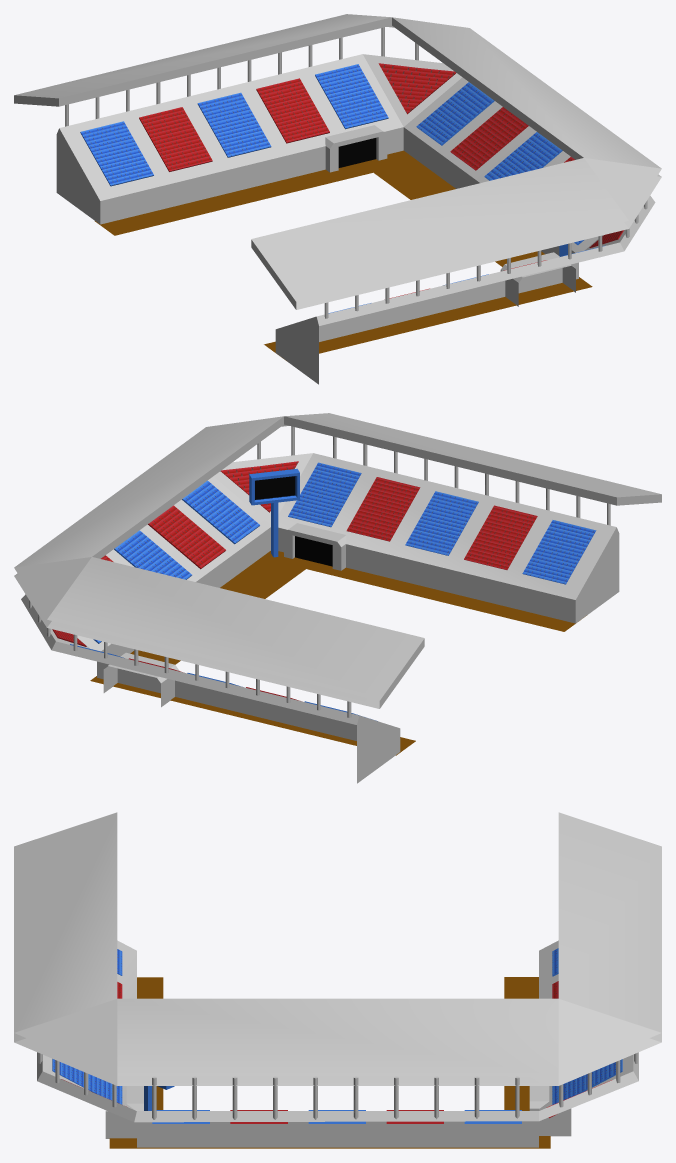
File: Stadium3D.FBX
The picture shows the model from 3 angles, top to bottom: view 1: azimuth 30°, elevation 25°; view 2: azimuth 150°, elevation 25°; view 3: azimuth 270°, elevation 25°; orthographic projection. The views are drawn at different scales.
Parts seen in each view (by area): view 1: Stadium, TeamColor1, TeamColor2, Ground; view 2: Stadium, TeamColor1, TeamColor2, Ground, Box001; view 3: Stadium, Ground, TeamColor1, TeamColor2.
Boxes of the visible parts, x1=… form: Stadium: x1=14, y1=14, x2=661, y2=384; TeamColor1: x1=80, y1=64, x2=605, y2=313; TeamColor2: x1=139, y1=63, x2=623, y2=299; Ground: x1=95, y1=150, x2=592, y2=360; Stadium: x1=14, y1=413, x2=661, y2=783; TeamColor1: x1=70, y1=462, x2=596, y2=721; TeamColor2: x1=52, y1=461, x2=537, y2=700; Ground: x1=90, y1=551, x2=586, y2=755; Box001: x1=249, y1=468, x2=299, y2=557; Stadium: x1=14, y1=812, x2=661, y2=1147; Ground: x1=109, y1=977, x2=550, y2=1148; TeamColor1: x1=52, y1=948, x2=622, y2=1123; TeamColor2: x1=61, y1=981, x2=611, y2=1123.
Bounding box in the file's own units: 476 × 142 × 564.
Materials: 5 (5 with a texture image).
